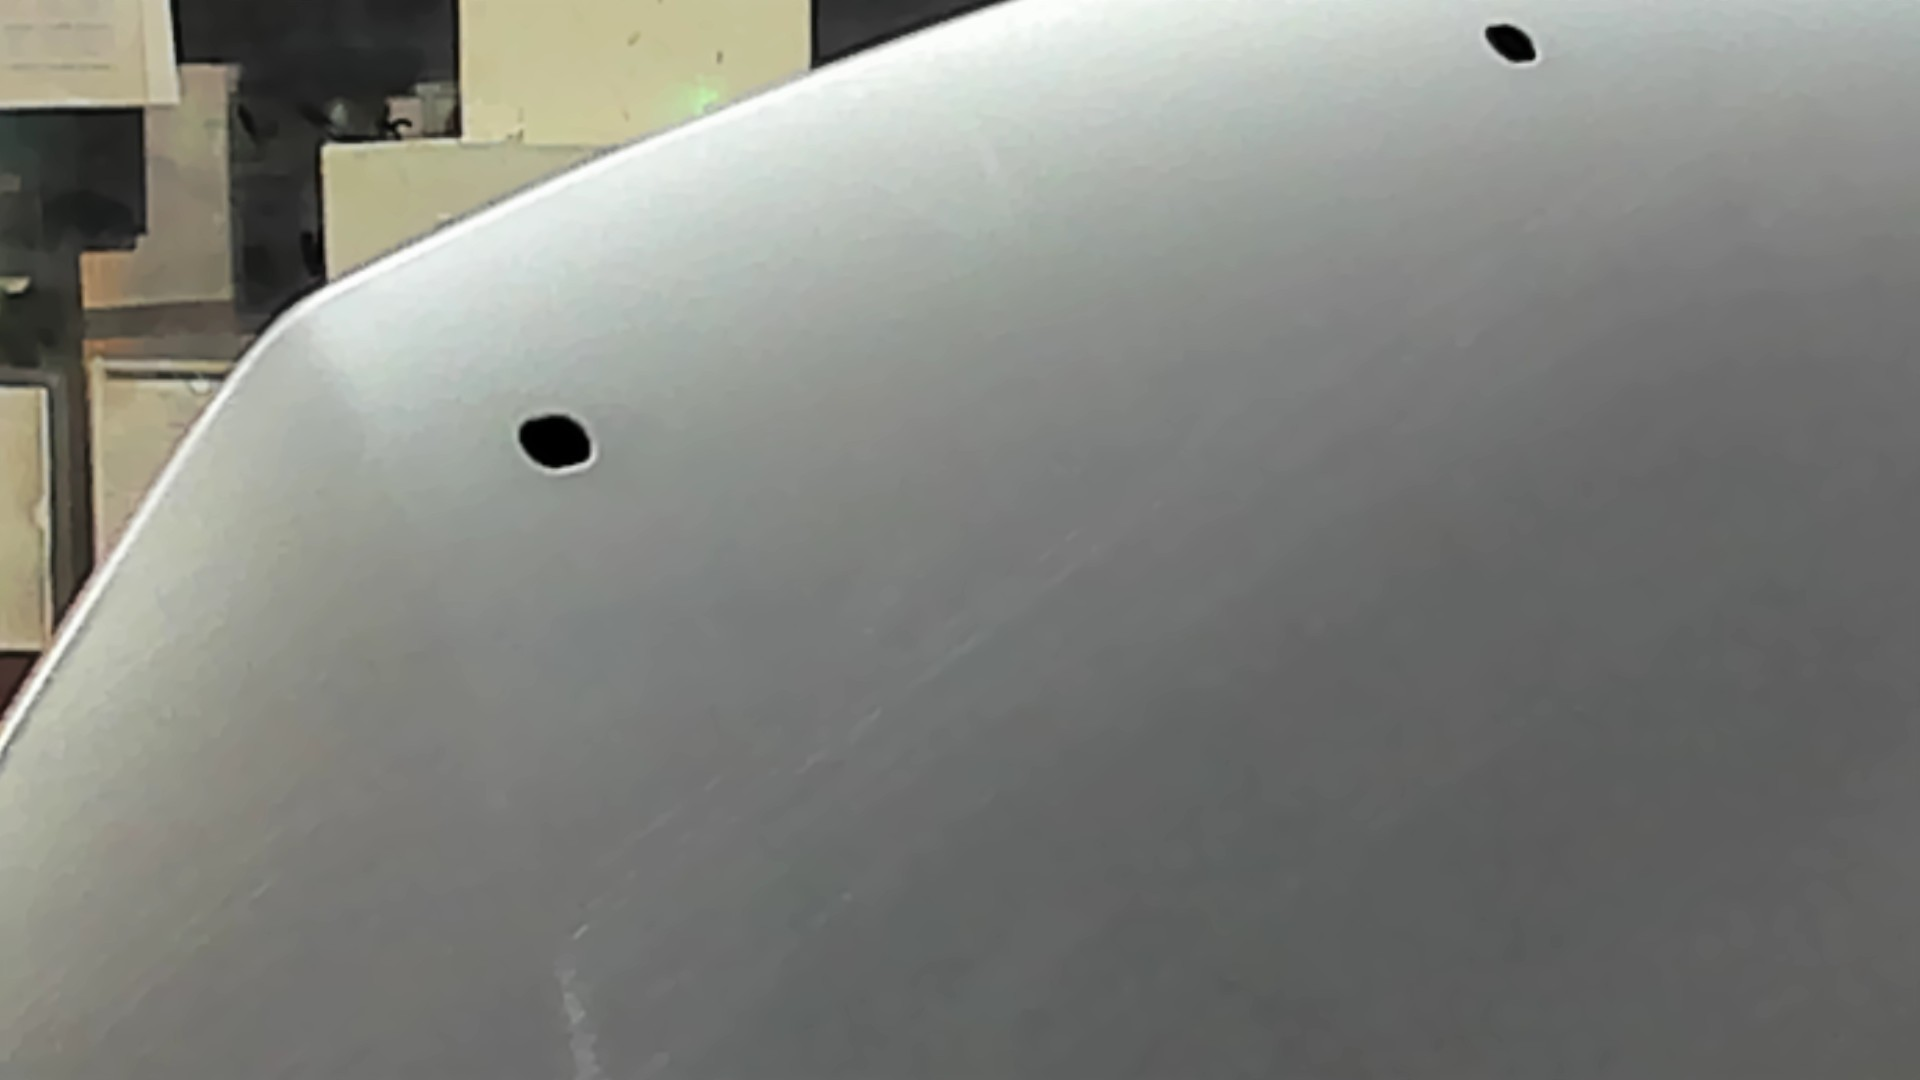chico: (506, 406, 611, 487), (1469, 9, 1555, 76)
